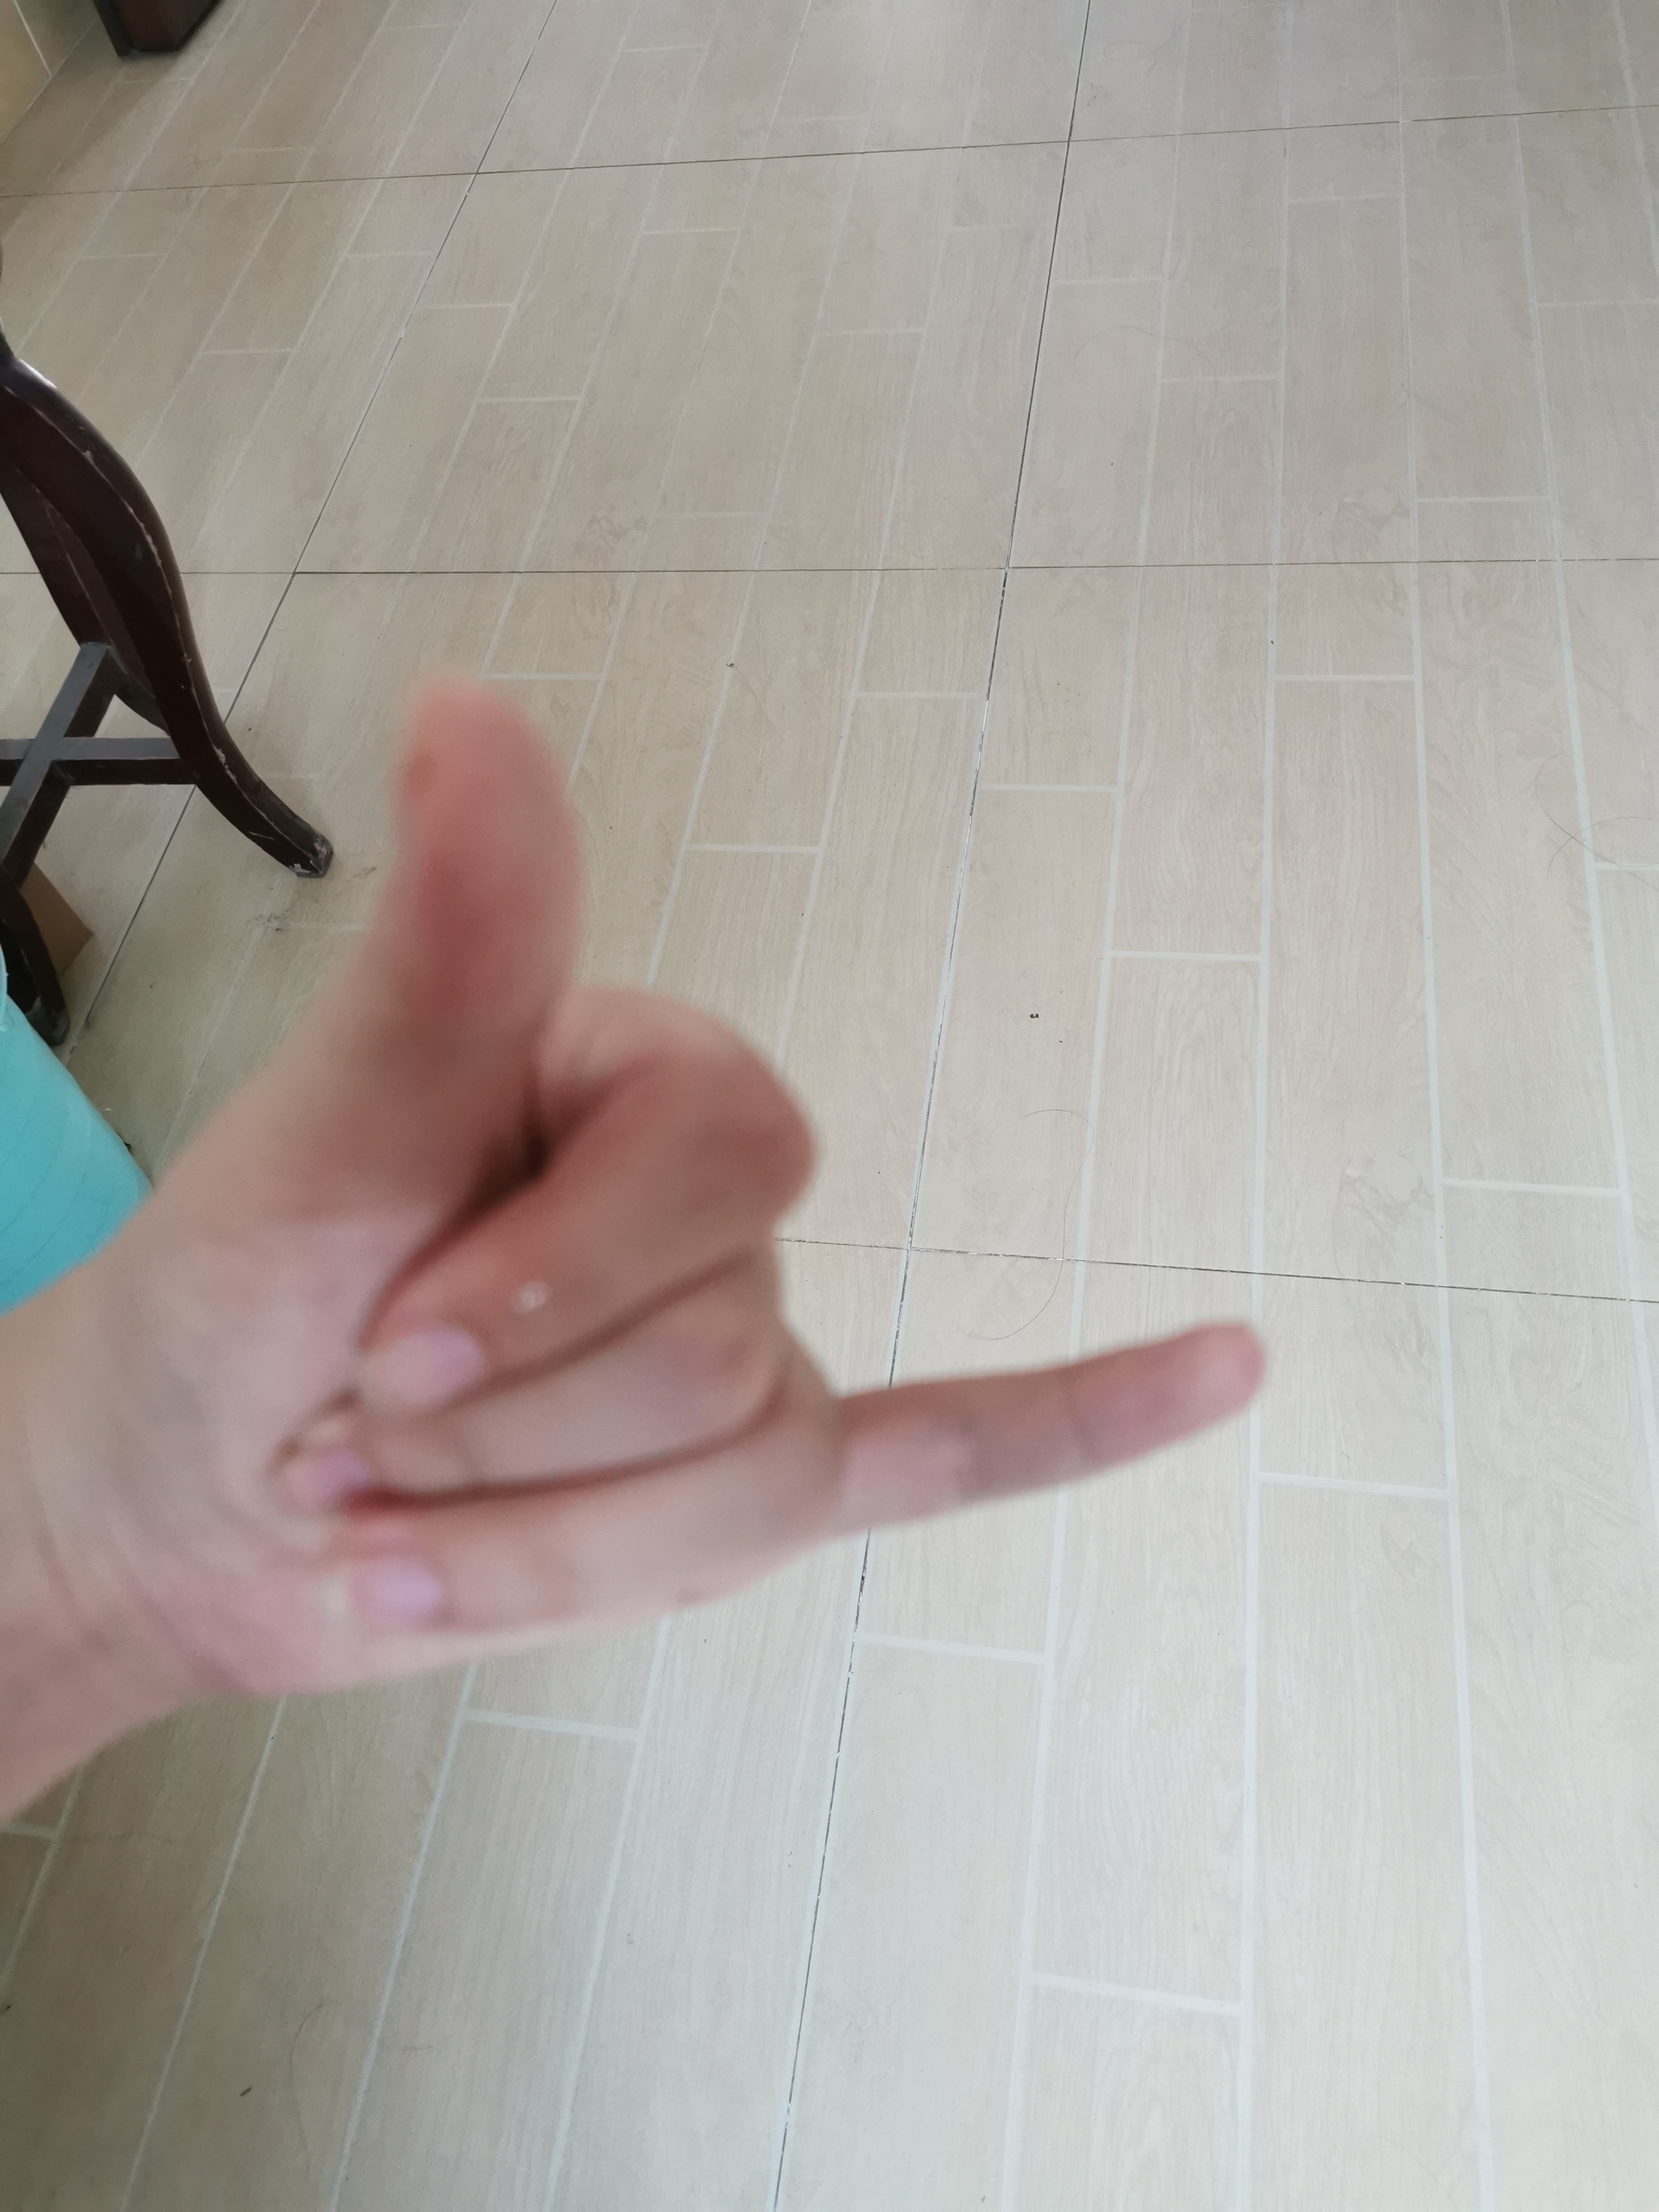clockwise: (89, 674, 1352, 1712)
